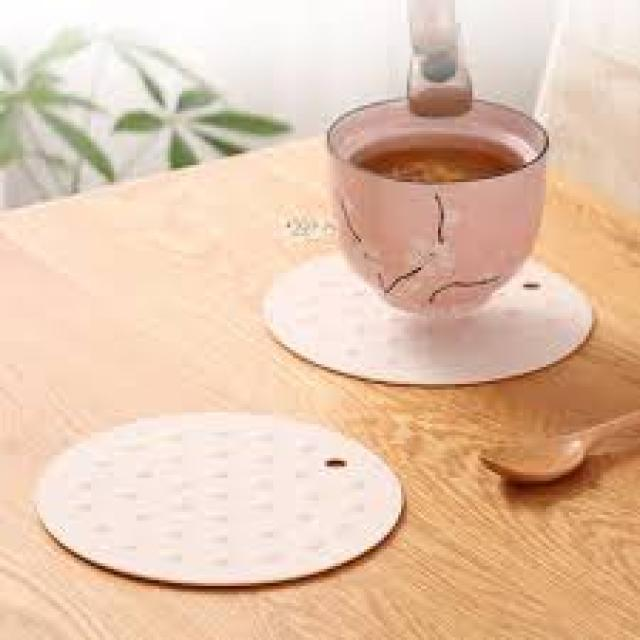taza: (300, 78, 568, 326)
